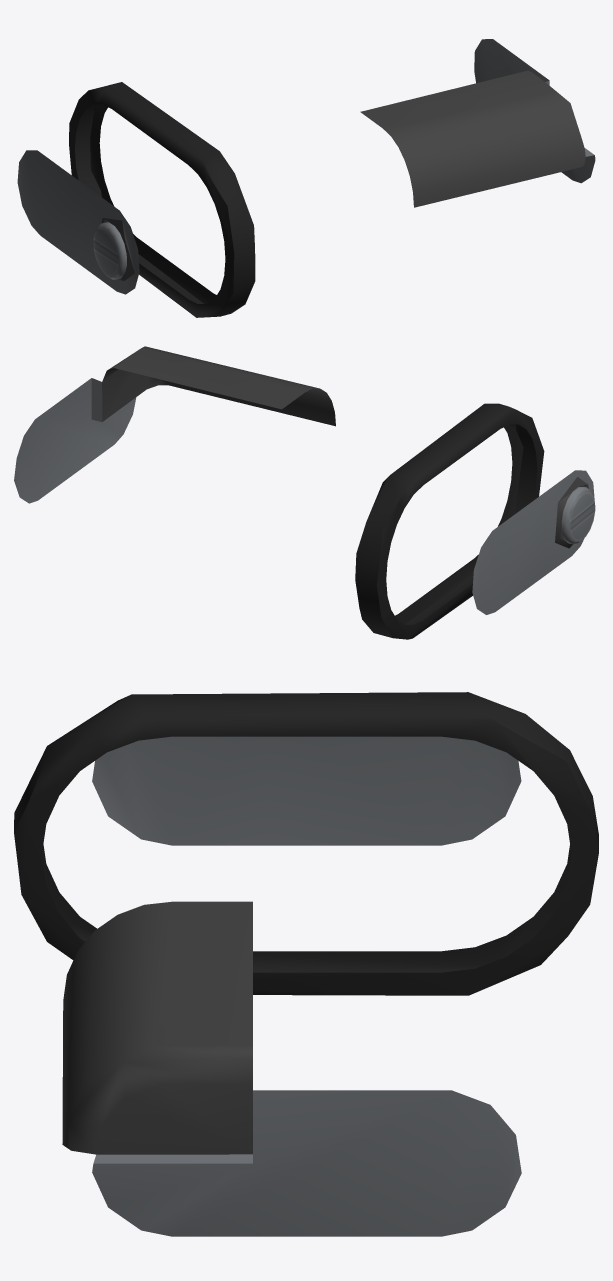
Rendered from env_ruin_container_01_lod1.fbx.
3 renders of one model, top to bottom at view 1: azimuth 30°, elevation 25°; view 2: azimuth 150°, elevation 25°; view 3: azimuth 270°, elevation 25°, orthographic. The views are drawn at different scales.
Visible parts, largest first — view 1: env_ruin_container_01_lod1; view 2: env_ruin_container_01_lod1; view 3: env_ruin_container_01_lod1.
Part boxes in pixels (x1,y1,x2,y2): env_ruin_container_01_lod1: (17, 39, 595, 317); env_ruin_container_01_lod1: (14, 346, 595, 639); env_ruin_container_01_lod1: (14, 692, 598, 1236).
Size of the model in its own units: 106 by 35.13 by 65.3.
